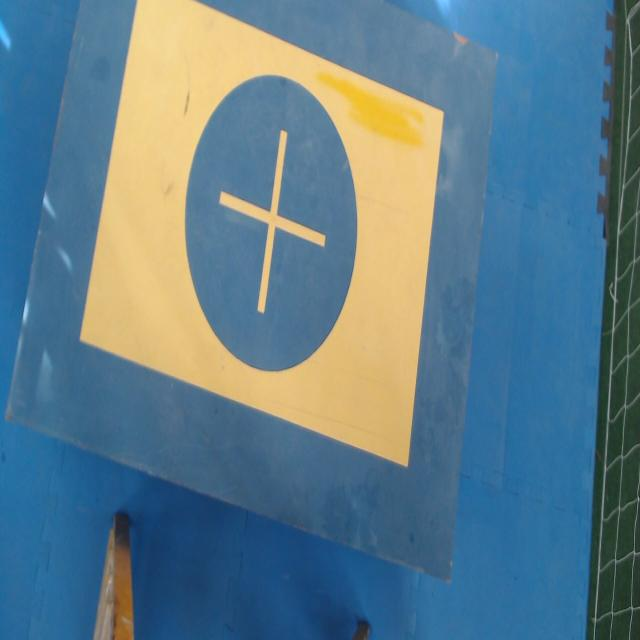base_inicio: (80, 0, 445, 467)
